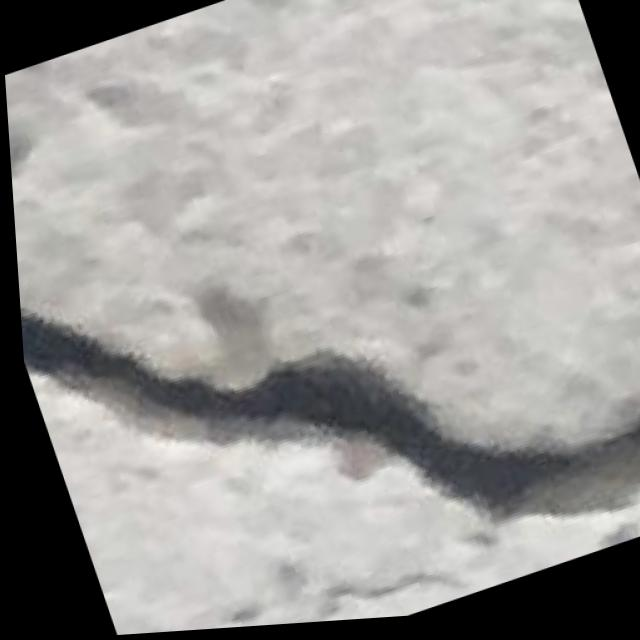Crack: (6, 80, 640, 640)
